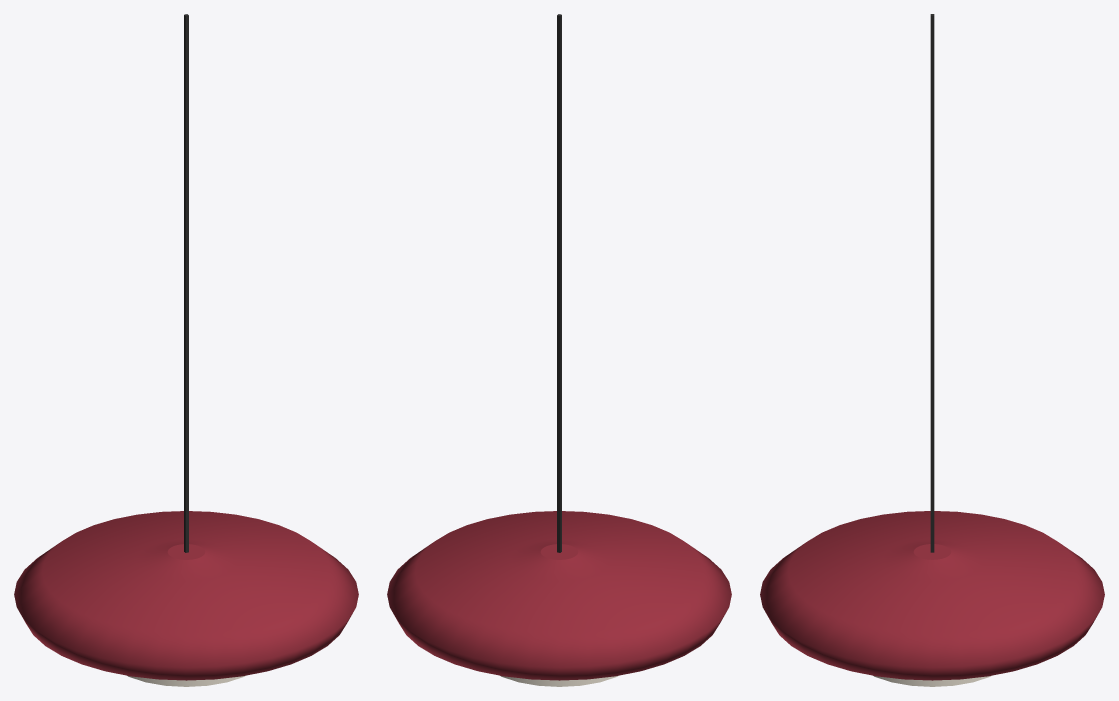
The model's file is SM_Pendant_Ruby.fbx.
3 renders of one model, left to right at view 1: azimuth 30°, elevation 25°; view 2: azimuth 150°, elevation 25°; view 3: azimuth 270°, elevation 25°, orthographic.
Visible parts, largest first — view 1: SM_Pendant_Ruby; view 2: SM_Pendant_Ruby; view 3: SM_Pendant_Ruby.
Part boxes in pixels (left/top/right/bottom): SM_Pendant_Ruby: left=14, top=14, right=358, bottom=686; SM_Pendant_Ruby: left=387, top=14, right=731, bottom=686; SM_Pendant_Ruby: left=760, top=14, right=1104, bottom=686.
Bounding box in the file's own units: 55 × 112 × 55.
